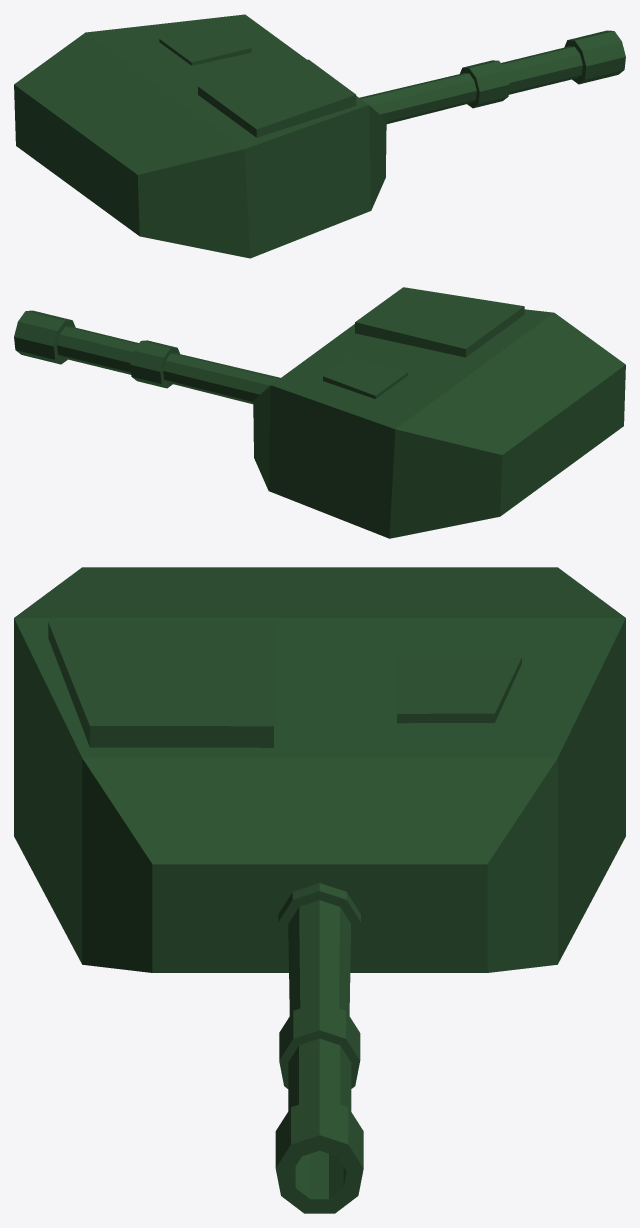
Rendered from TankTurret.fbx.
3 renders of one model, top to bottom at view 1: azimuth 30°, elevation 25°; view 2: azimuth 150°, elevation 25°; view 3: azimuth 270°, elevation 25°, orthographic. The views are drawn at different scales.
Parts seen in each view (by area): view 1: TankTurret; view 2: TankTurret; view 3: TankTurret.
Part boxes in pixels (box(x1,y1,x2,y2)): TankTurret: box(14, 14, 625, 258); TankTurret: box(14, 287, 625, 538); TankTurret: box(14, 567, 625, 1213).
Size of the model in its own units: 287 by 60.42 by 147.
